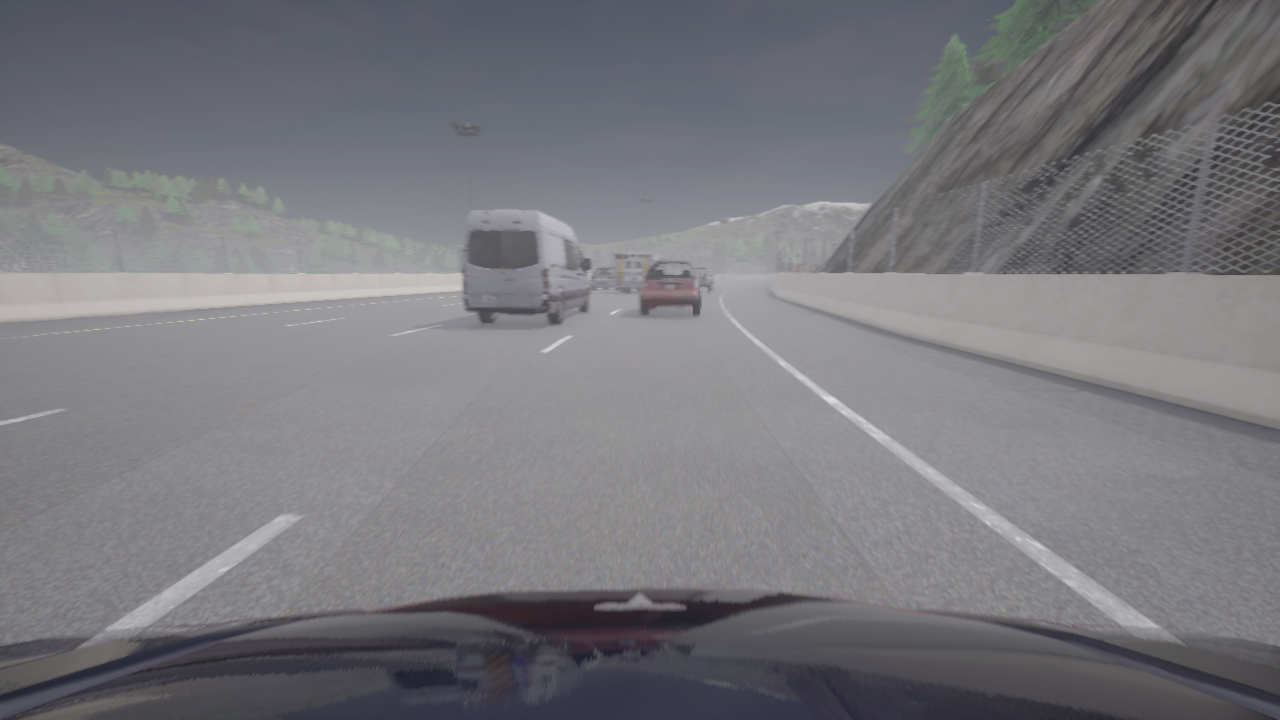cyclist: (0, 588, 1279, 719), (462, 210, 590, 323), (640, 260, 702, 316), (614, 252, 662, 292), (591, 267, 619, 289), (693, 267, 714, 291)
